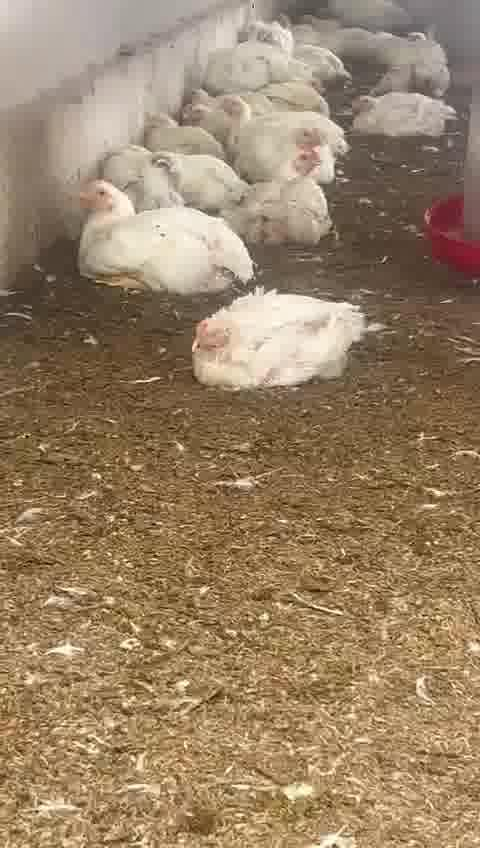AbNormal: (190, 284, 374, 398), (101, 143, 232, 202), (136, 110, 221, 159), (193, 49, 247, 91), (168, 82, 223, 122)
Normal: (75, 184, 251, 296), (215, 92, 353, 156), (238, 152, 336, 241), (338, 86, 459, 143), (246, 126, 338, 175)
